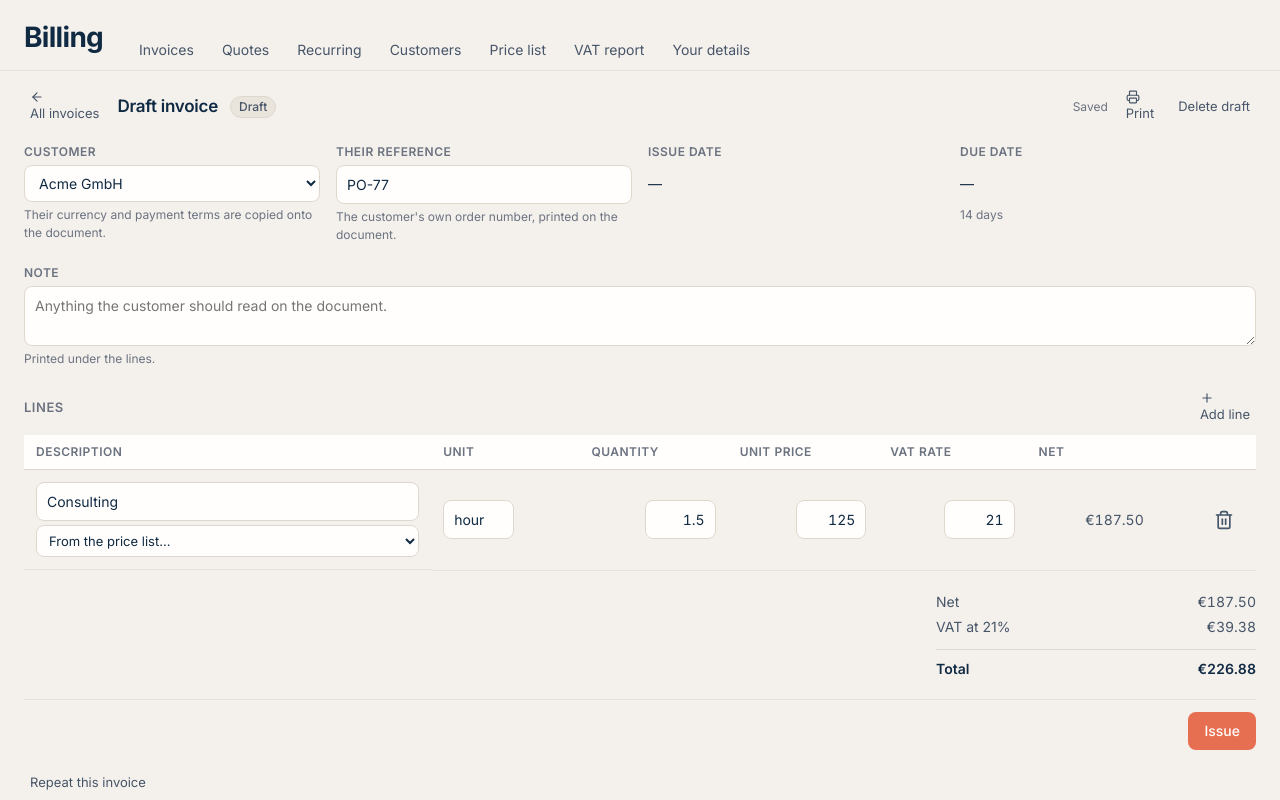
it: the draft editor › a typed quantity is saved as milli-units and the new totals are the server's
Check: the text "€226.88" is shown, box [1197,658,1256,678]
Replace the text in the field named "Quantity" with "2". click: {"x": 680, "y": 520}
box: [645,500,716,539]
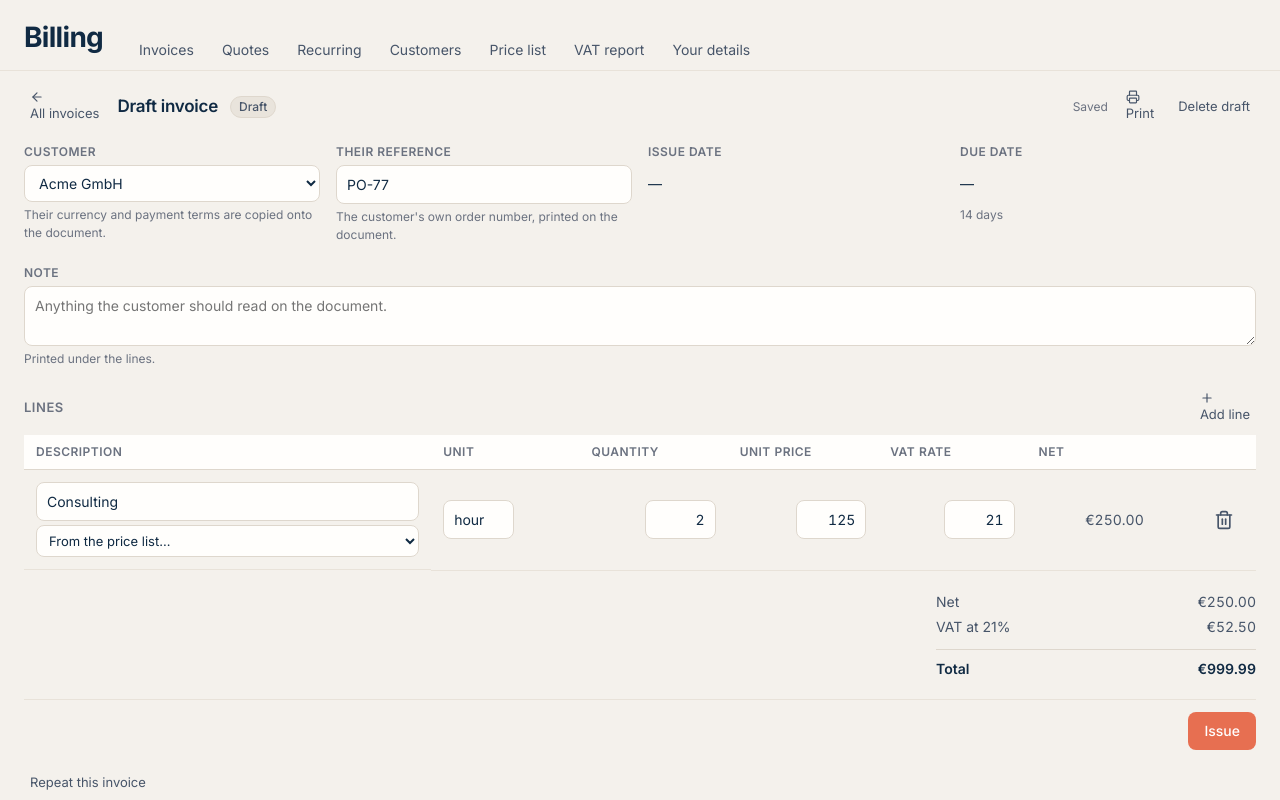
Check: the text "€999.99" is shown, box [1197,658,1256,678]
